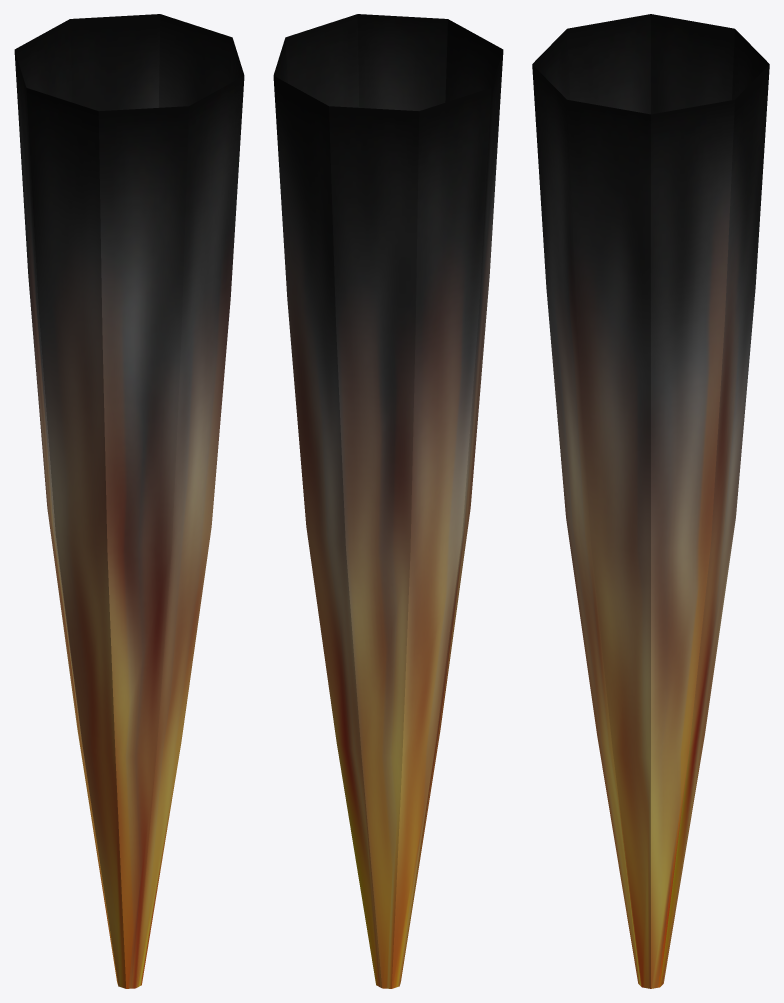
File: eng_plumes_06.fbx
3 renders of one model, left to right at view 1: azimuth 30°, elevation 25°; view 2: azimuth 150°, elevation 25°; view 3: azimuth 270°, elevation 25°, orthographic.
Parts seen in each view (by area): view 1: eng_plume_06; view 2: eng_plume_06; view 3: eng_plume_06.
Part boxes in pixels (x1,y1,x2,y2): eng_plume_06: (14, 14, 244, 988); eng_plume_06: (273, 14, 503, 988); eng_plume_06: (532, 14, 769, 988).
Size of the model in its own units: 4.19 by 17.87 by 4.19.
1 material, 1 textured.
